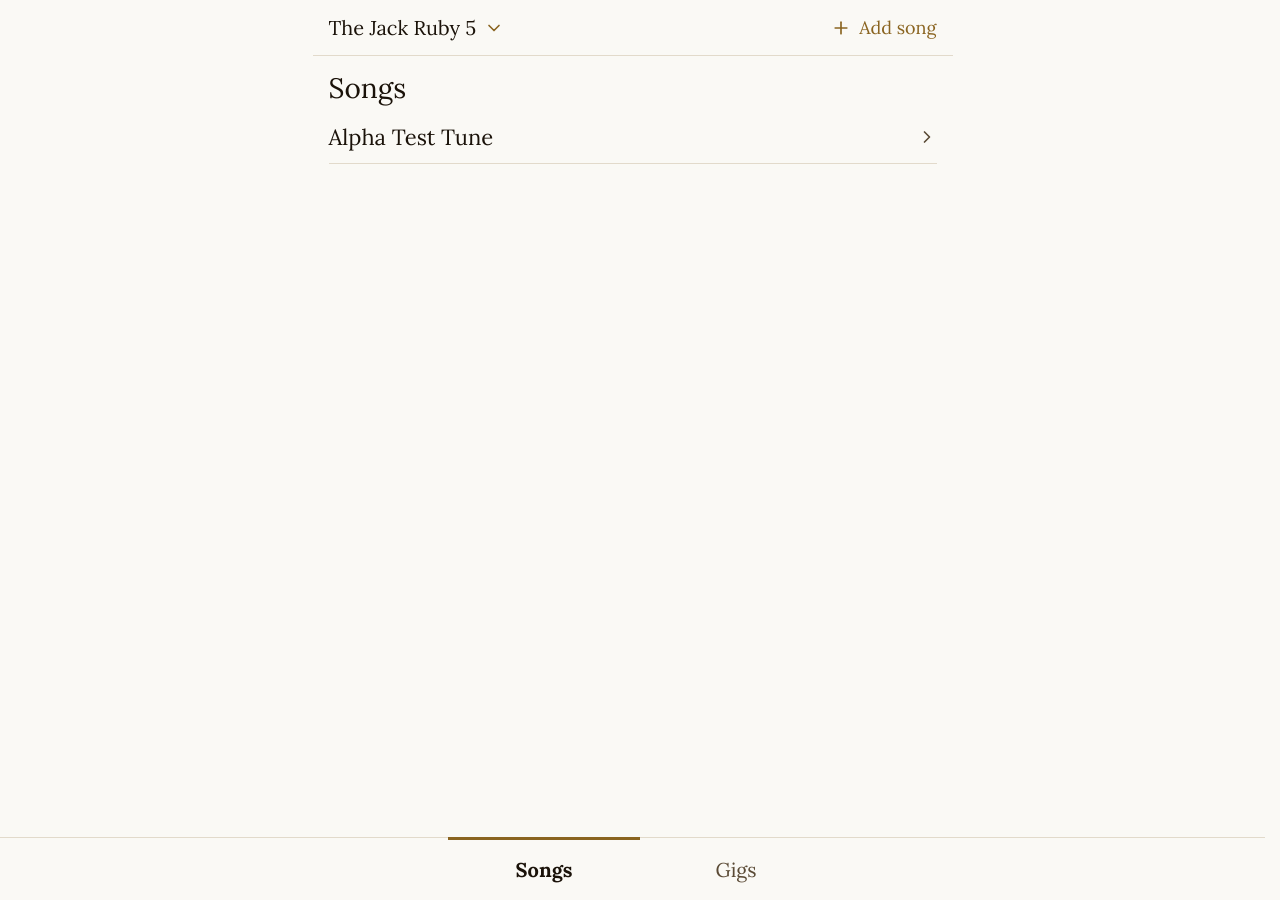
Scenario: AppBootstrap › header and tab bar (Story 7.20) › signed in: the tabs switch between the two lists
The image size is (1280, 900).
Click the link "Gigs".
click(736, 870)  # box [715,857,757,882]
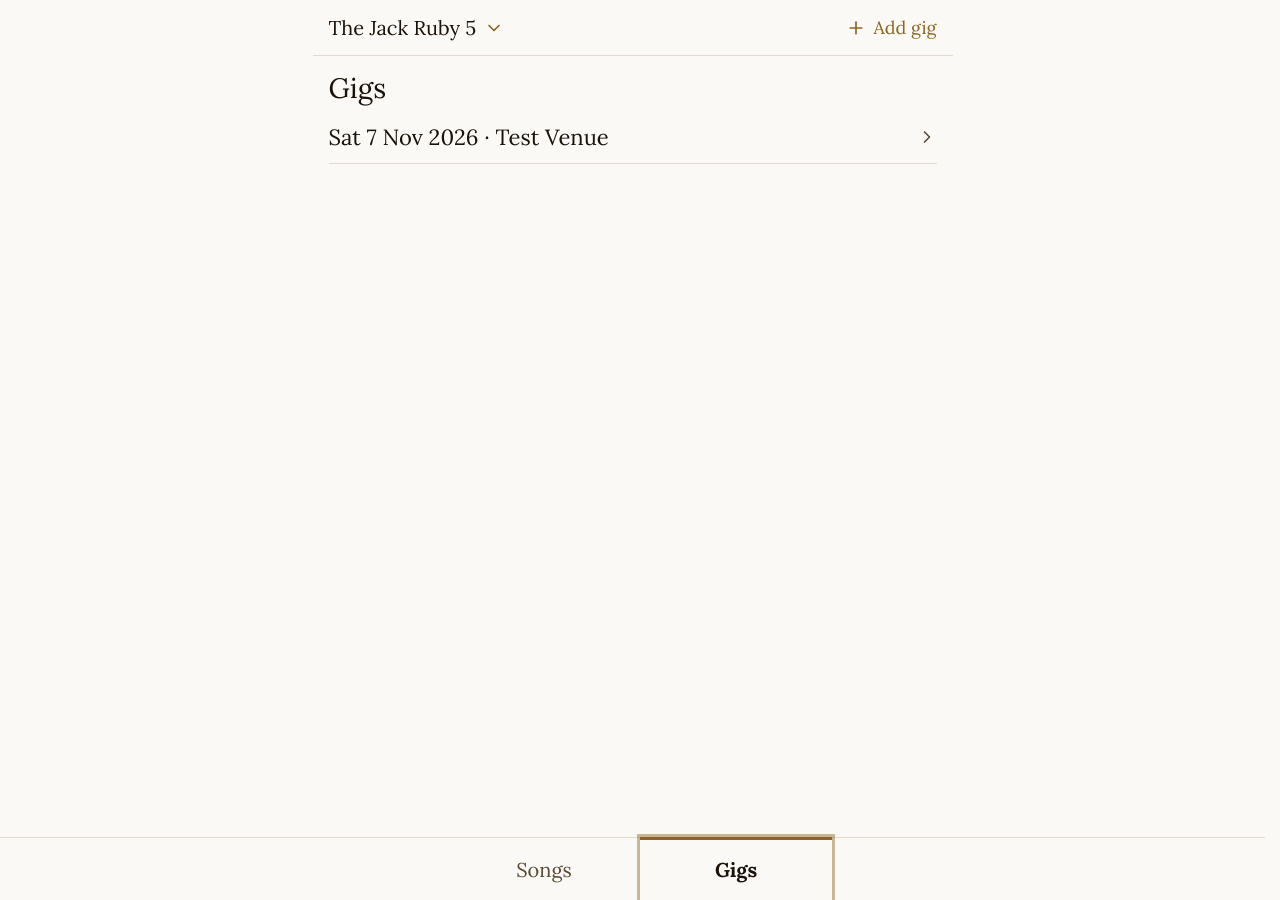
Expected: the navigation bar named "Lists" is shown, [0,837,1279,899]
Result: the link "Sat 7 Nov 2026 · Test Venue" is shown at [328,123,936,151]
